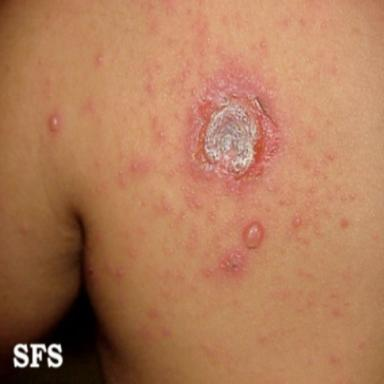Impetigo: (182, 70, 283, 196), (219, 221, 264, 278), (48, 112, 61, 132)
